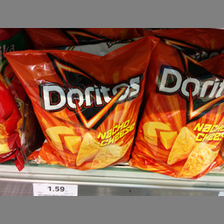chips: (5, 42, 147, 169), (134, 39, 223, 178)
